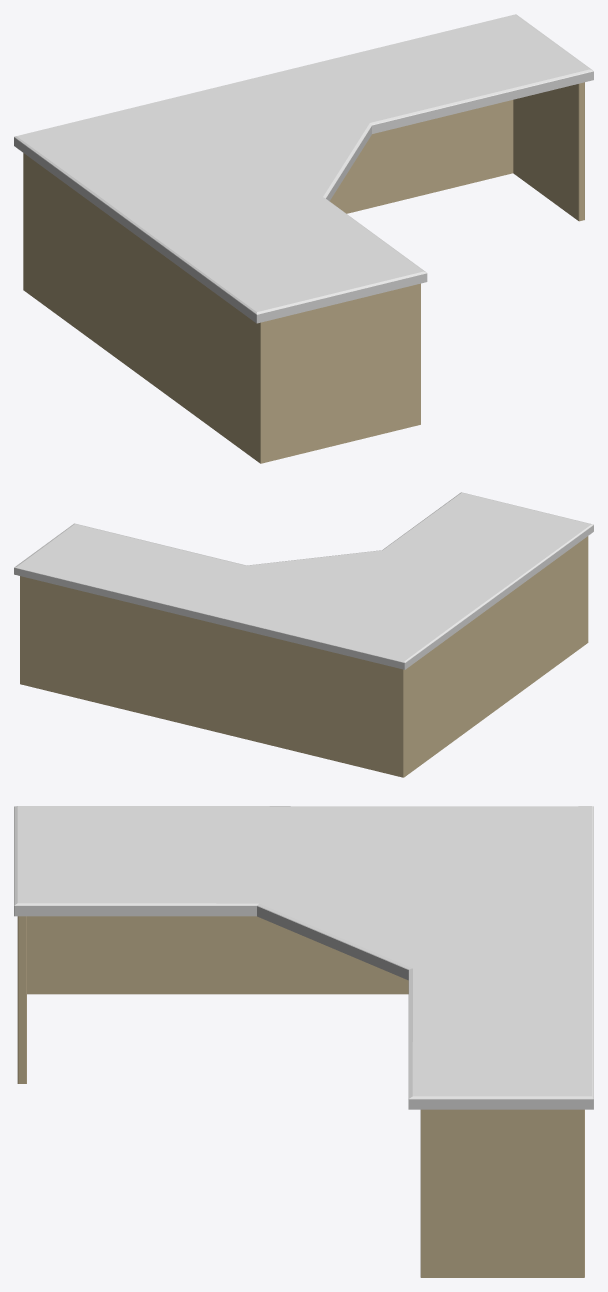
The model's file is front_desk.fbx.
3 renders of one model, top to bottom at view 1: azimuth 30°, elevation 25°; view 2: azimuth 150°, elevation 25°; view 3: azimuth 270°, elevation 25°, orthographic. The views are drawn at different scales.
Parts seen in each view (by area): view 1: Plane, Cube; view 2: Cube, Plane; view 3: Plane, Cube.
Part boxes in pixels (box(x1,y1,x2,y2)): Plane: box(14, 14, 593, 323); Cube: box(23, 82, 584, 463); Cube: box(20, 536, 588, 777); Plane: box(14, 492, 593, 669); Plane: box(14, 806, 593, 1109); Cube: box(17, 916, 584, 1277).
Size of the model in its own units: 597 by 173 by 500.
